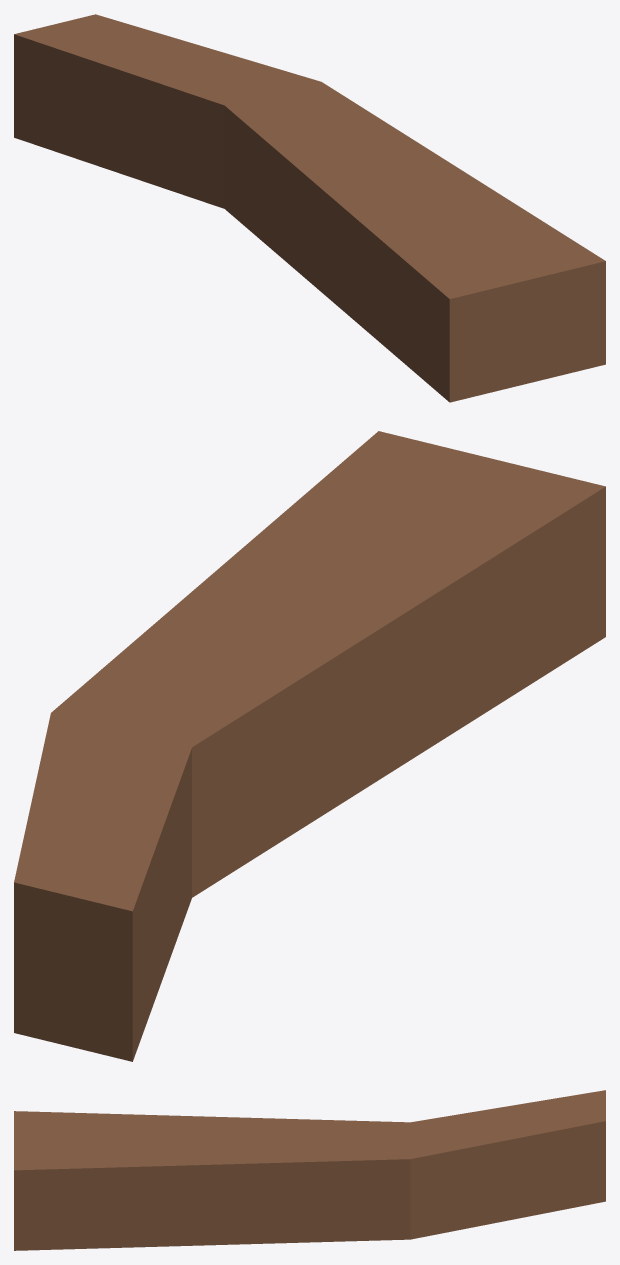
The model's file is Branch.fbx.
3 views of the same model, one above another, from view 1: azimuth 30°, elevation 25°; view 2: azimuth 150°, elevation 25°; view 3: azimuth 270°, elevation 25° (orthographic). The views are drawn at different scales.
Visible parts, largest first — view 1: Branch; view 2: Branch; view 3: Branch.
Part boxes in pixels (left/top/right/bottom): Branch: left=14, top=14, right=605, bottom=402; Branch: left=14, top=431, right=605, bottom=1061; Branch: left=14, top=1090, right=605, bottom=1250.
Size of the model in its own units: 3.03 by 1.42 by 9.45.
